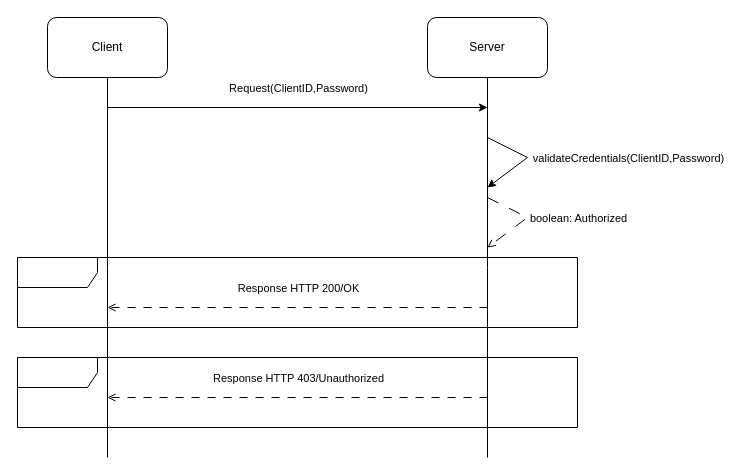
Image size: 742x476. Some labels were removed from this diagram. Here are the shapes that lost their labels. From the top down, the centre of each, then its label:
At point (297, 292): "if Authorized".
At point (297, 392): "if not Authorized".
